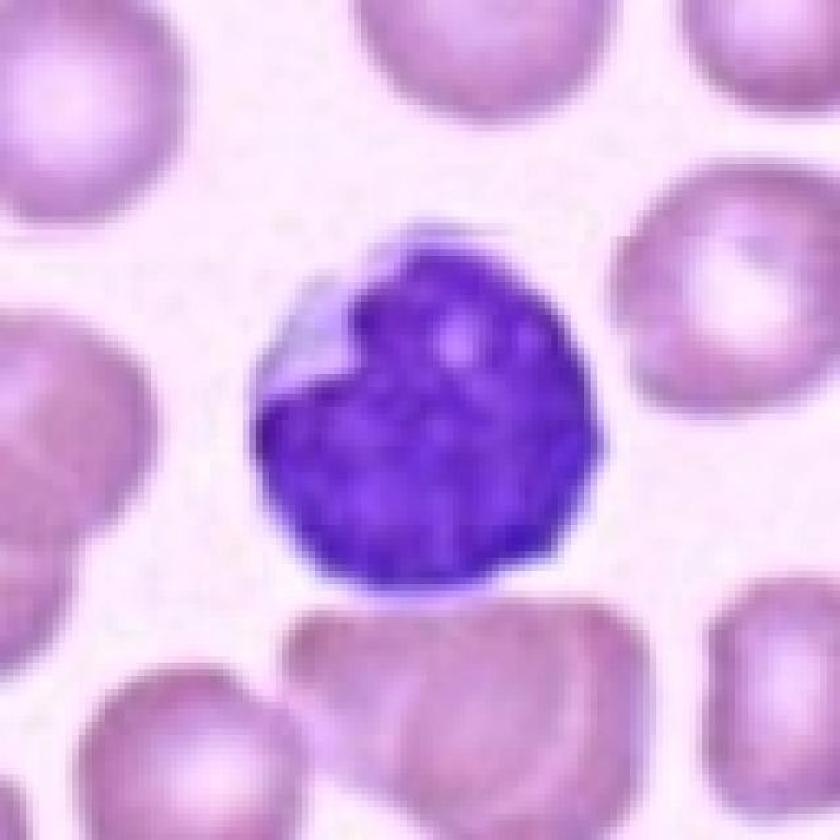lymphocyte: (241, 217, 609, 597)
